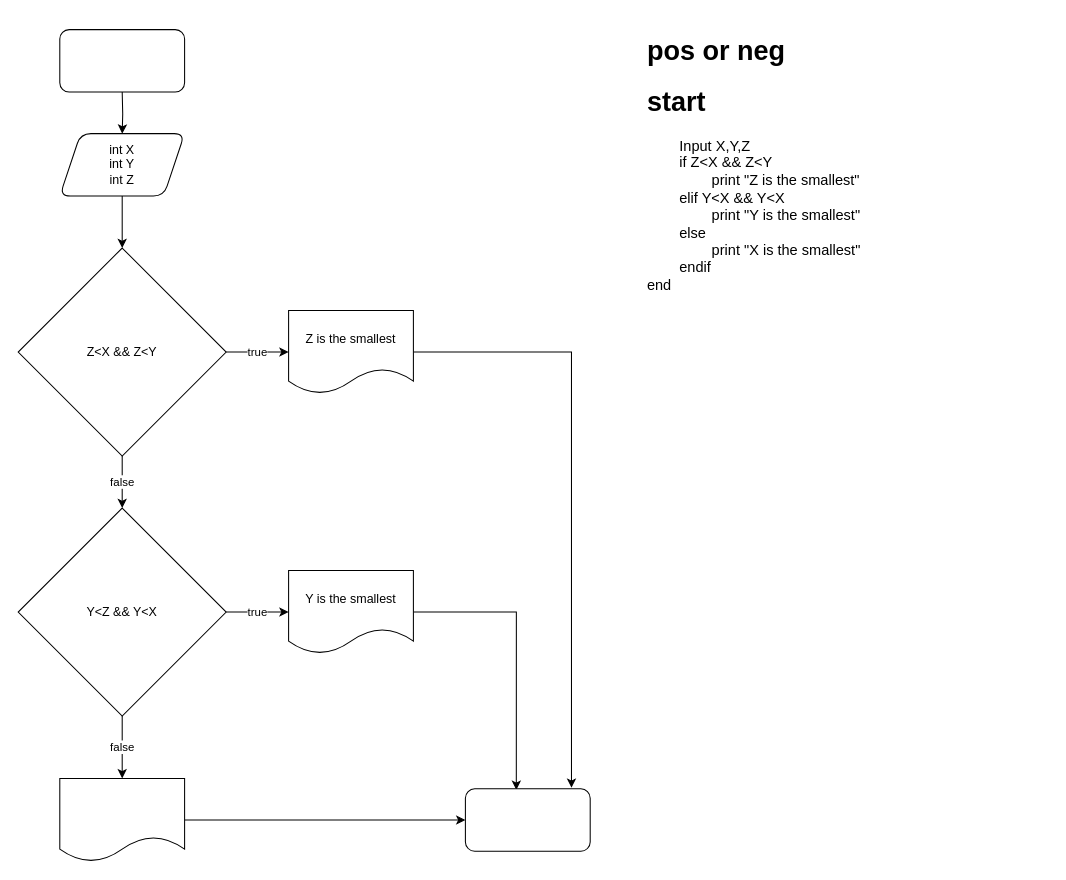
Image size: 1066x880. Some labels were removed from this diagram. Here are the shapes that lost their labels. From the top down, the centre of each, then its label:
(122,60): Start
(122,819): X is the smallest
(527,819): End
